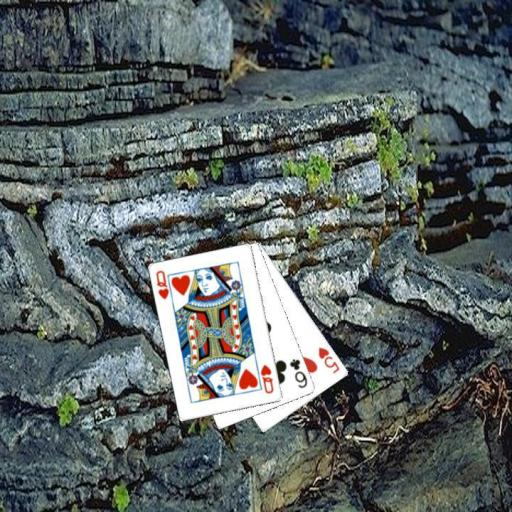5H: (315, 344, 341, 375)
6C: (287, 356, 309, 390)
QH: (153, 267, 175, 304), (258, 362, 276, 396)
